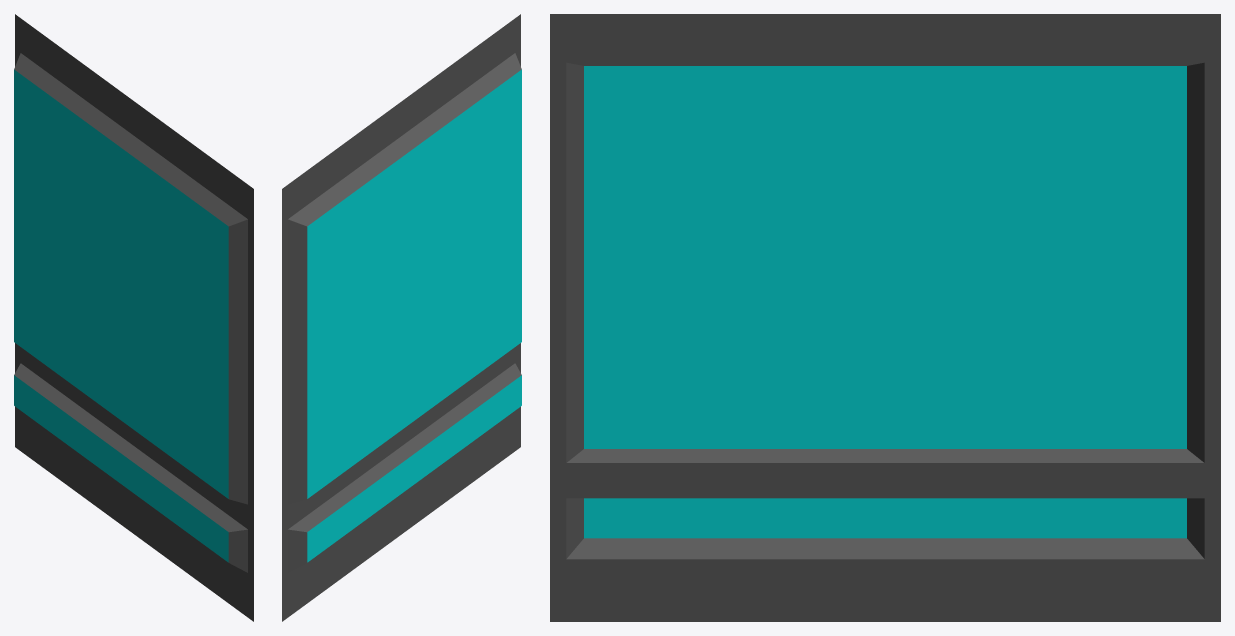
File: milit_wall_window_02_LOD0.fbx
3 renders of one model, left to right at view 1: azimuth 30°, elevation 25°; view 2: azimuth 150°, elevation 25°; view 3: azimuth 270°, elevation 25°, orthographic. The views are drawn at different scales.
Visible parts, largest first — view 1: milit_wall_window_02_LOD0; view 2: milit_wall_window_02_LOD0; view 3: milit_wall_window_02_LOD0.
Part boxes in pixels (<box>): milit_wall_window_02_LOD0: <box>14,14,253,621</box>; milit_wall_window_02_LOD0: <box>282,14,521,621</box>; milit_wall_window_02_LOD0: <box>550,14,1220,621</box>.
Bounding box in the file's own units: 0.0941 × 3 × 3.
